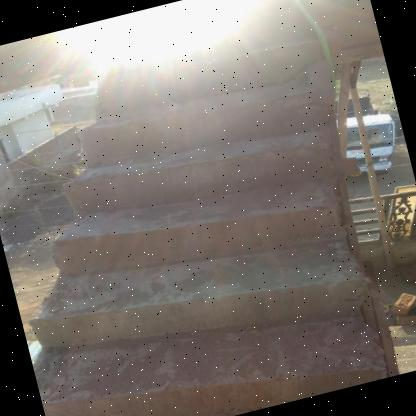stair: (0, 2, 405, 416)
